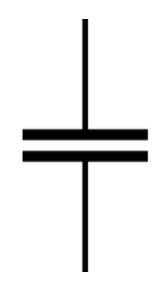Capacitor: (14, 96, 151, 188)
